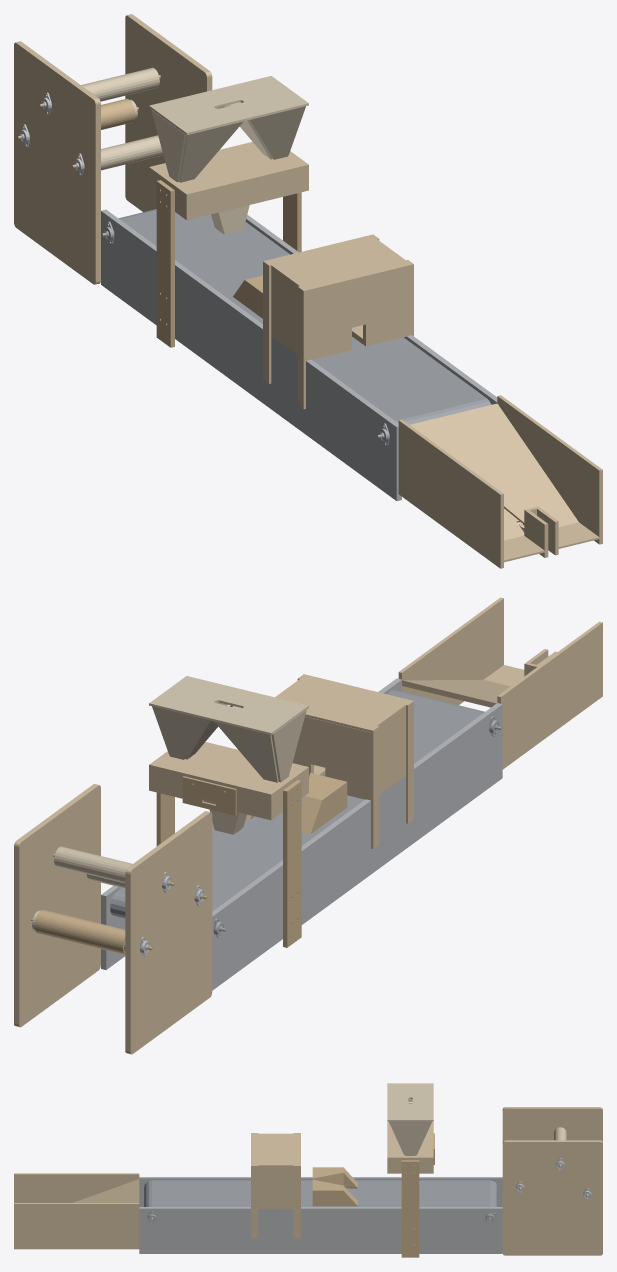
File: maquina.glb
3 views of the same model, one above another, from view 1: azimuth 30°, elevation 25°; view 2: azimuth 150°, elevation 25°; view 3: azimuth 270°, elevation 25° (orthographic). The views are drawn at different scales.
Visible parts, largest first — view 1: Separador_de_itens, Bobina_laterais, Esteira_laterais, Selagem_horizontal, Esteira_lona, Dispenser_250_220_172, Dispenser_244_200_138, Dispenser_222_168_104, Bobina_rolos, Bobina_travessas, Braco_formador; view 2: Bobina_laterais, Esteira_laterais, Separador_de_itens, Selagem_horizontal, Dispenser_250_220_172, Esteira_lona, Dispenser_244_200_138, Dispenser_222_168_104, Bobina_travessas, Braco_formador, Bobina_rolos; view 3: Esteira_laterais, Bobina_laterais, Separador_de_itens, Esteira_lona, Selagem_horizontal, Dispenser_250_220_172, Dispenser_222_168_104, Braco_formador, Dispenser_244_200_138, Bobina_mancais.
Boxes of the visible parts, left/top/right/bottom form: Separador_de_itens: left=398, top=395, right=602, bottom=568; Bobina_laterais: left=14, top=14, right=212, bottom=284; Esteira_laterais: left=101, top=209, right=497, bottom=500; Selagem_horizontal: left=263, top=234, right=413, bottom=409; Esteira_lona: left=119, top=209, right=491, bottom=424; Dispenser_250_220_172: left=149, top=76, right=308, bottom=234; Dispenser_244_200_138: left=149, top=142, right=308, bottom=220; Dispenser_222_168_104: left=156, top=180, right=301, bottom=347; Bobina_rolos: left=81, top=67, right=163, bottom=170; Bobina_travessas: left=17, top=75, right=160, bottom=168; Braco_formador: left=233, top=275, right=262, bottom=318; Bobina_laterais: left=14, top=784, right=212, bottom=1054; Esteira_laterais: left=101, top=678, right=502, bottom=990; Separador_de_itens: left=398, top=597, right=602, bottom=769; Selagem_horizontal: left=275, top=674, right=413, bottom=848; Dispenser_250_220_172: left=149, top=676, right=308, bottom=834; Esteira_lona: left=110, top=689, right=484, bottom=918; Dispenser_244_200_138: left=149, top=742, right=308, bottom=820; Dispenser_222_168_104: left=156, top=776, right=301, bottom=947; Bobina_travessas: left=31, top=853, right=207, bottom=954; Braco_formador: left=246, top=773, right=347, bottom=834; Bobina_rolos: left=32, top=846, right=132, bottom=951; Esteira_laterais: left=139, top=1177, right=502, bottom=1253; Bobina_laterais: left=502, top=1107, right=602, bottom=1255; Separador_de_itens: left=14, top=1173, right=139, bottom=1249; Esteira_lona: left=144, top=1180, right=497, bottom=1206; Selagem_horizontal: left=251, top=1133, right=300, bottom=1238; Dispenser_250_220_172: left=387, top=1083, right=433, bottom=1155; Dispenser_222_168_104: left=401, top=1133, right=434, bottom=1257; Braco_formador: left=312, top=1167, right=357, bottom=1206; Dispenser_244_200_138: left=387, top=1121, right=433, bottom=1173; Bobina_mancais: left=516, top=1158, right=591, bottom=1201.
Bounding box in the file's own units: 0.38 × 0.6012 × 2.35.
